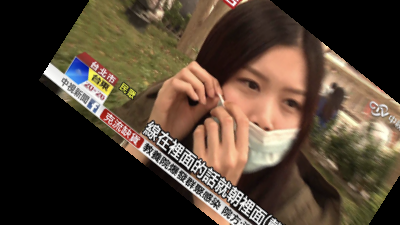mask_weared_incorrect: (195, 1, 329, 203)
